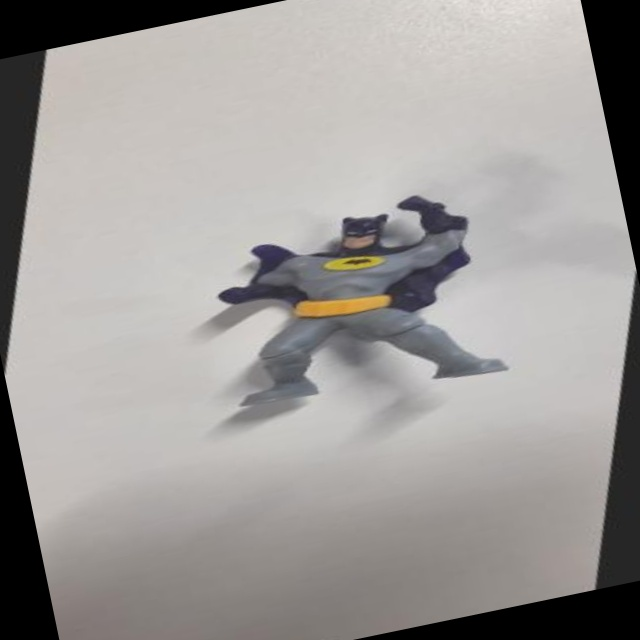Batman: (140, 147, 587, 461)
